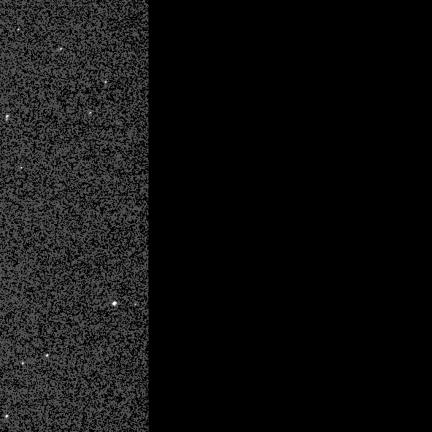blob: (112, 302, 116, 306), (6, 415, 9, 419), (22, 362, 25, 365), (46, 354, 49, 357)
